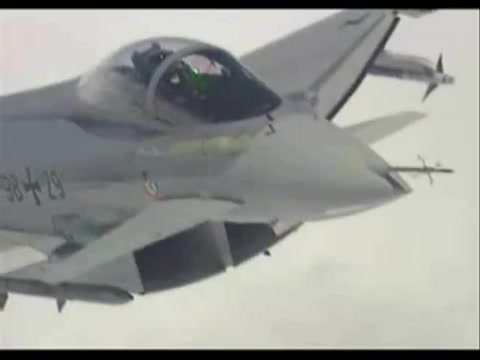aeroplane: (2, 11, 460, 315)
